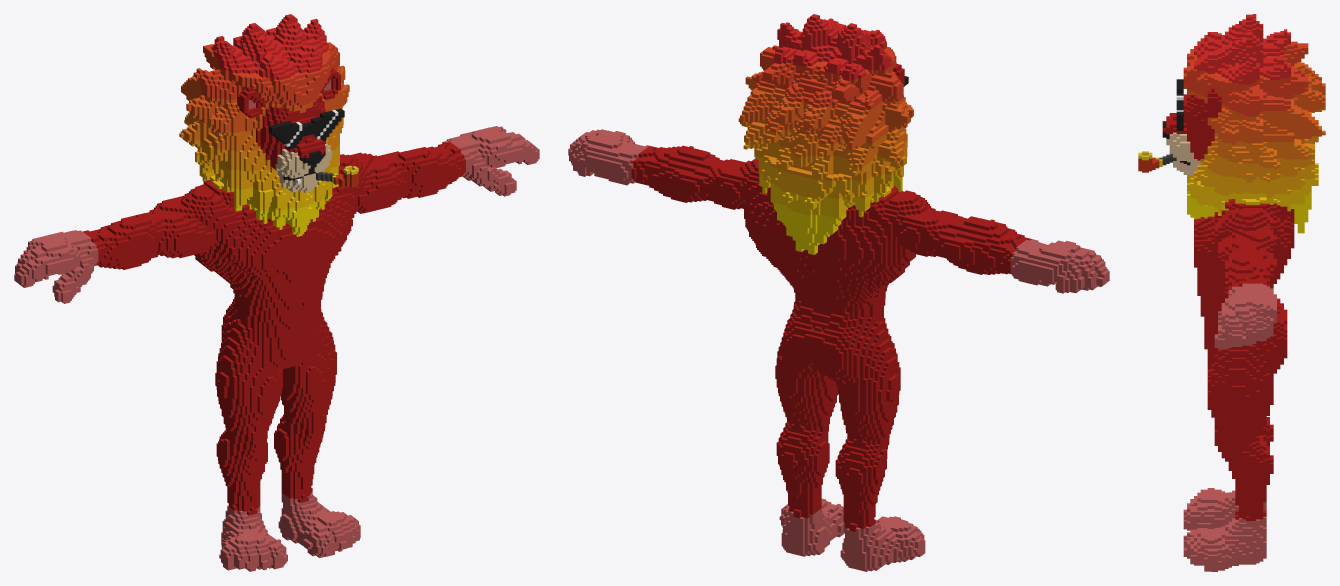
File: 831-Do1BEGRK.glb
The picture shows the model from 3 angles, left to right: view 1: azimuth 30°, elevation 25°; view 2: azimuth 150°, elevation 25°; view 3: azimuth 270°, elevation 25°; orthographic projection. The views are drawn at different scales.
Visible parts, largest first — view 1: pipe; view 2: pipe; view 3: pipe.
Boxes of the visible parts, left/top/right/bottom form: pipe: left=14, top=14, right=539, bottom=571; pipe: left=568, top=14, right=1109, bottom=571; pipe: left=1138, top=14, right=1325, bottom=571.
Bounding box in the file's own units: 17.2 × 16.5 × 5.4.
Materials: 4 (4 with a texture image).
